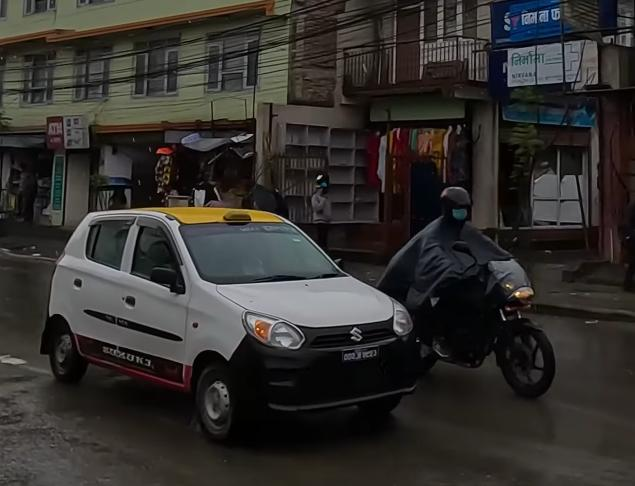bike: (387, 232, 568, 408)
taxi: (36, 194, 425, 446)
